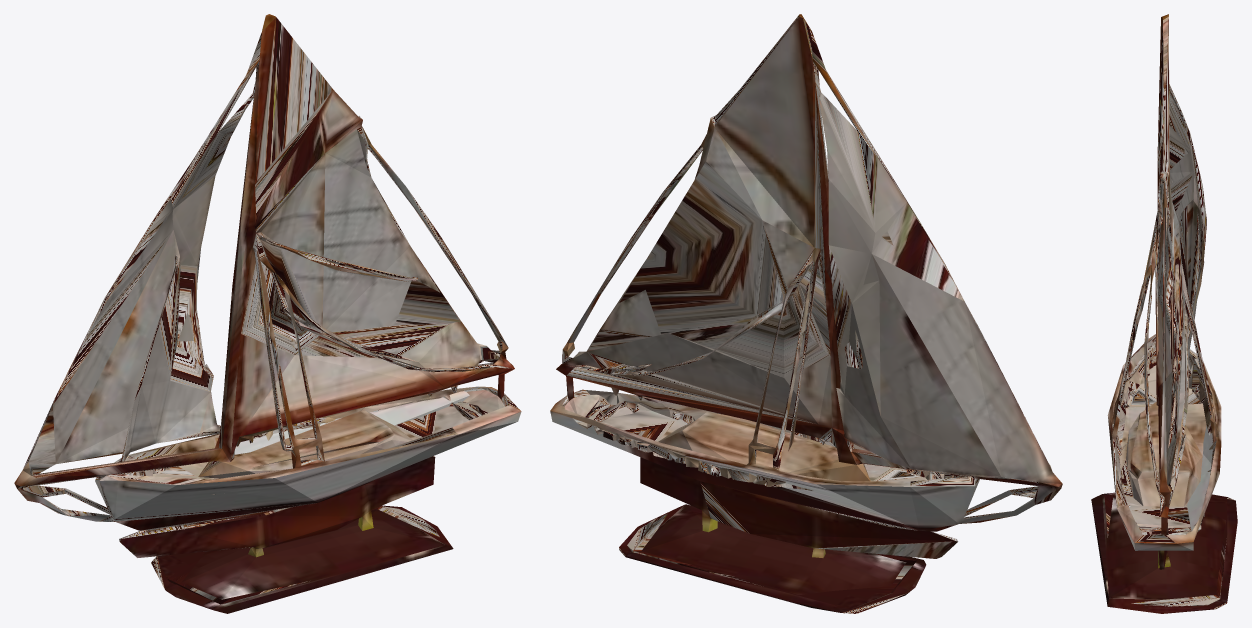
Rendered from ocean_yacht.glb.
3 views of the same model, side by side, from view 1: azimuth 30°, elevation 25°; view 2: azimuth 150°, elevation 25°; view 3: azimuth 270°, elevation 25° (orthographic). The views are drawn at different scales.
Visible parts, largest first — view 1: textured; view 2: textured; view 3: textured.
Boxes of the visible parts, x1,y1,x2,y2 form: textured: [14, 14, 521, 613]; textured: [550, 14, 1062, 613]; textured: [1091, 14, 1237, 613].
Size of the model in its own units: 1.87 by 1.97 by 0.4993.
Materials: 1 (1 with a texture image).
